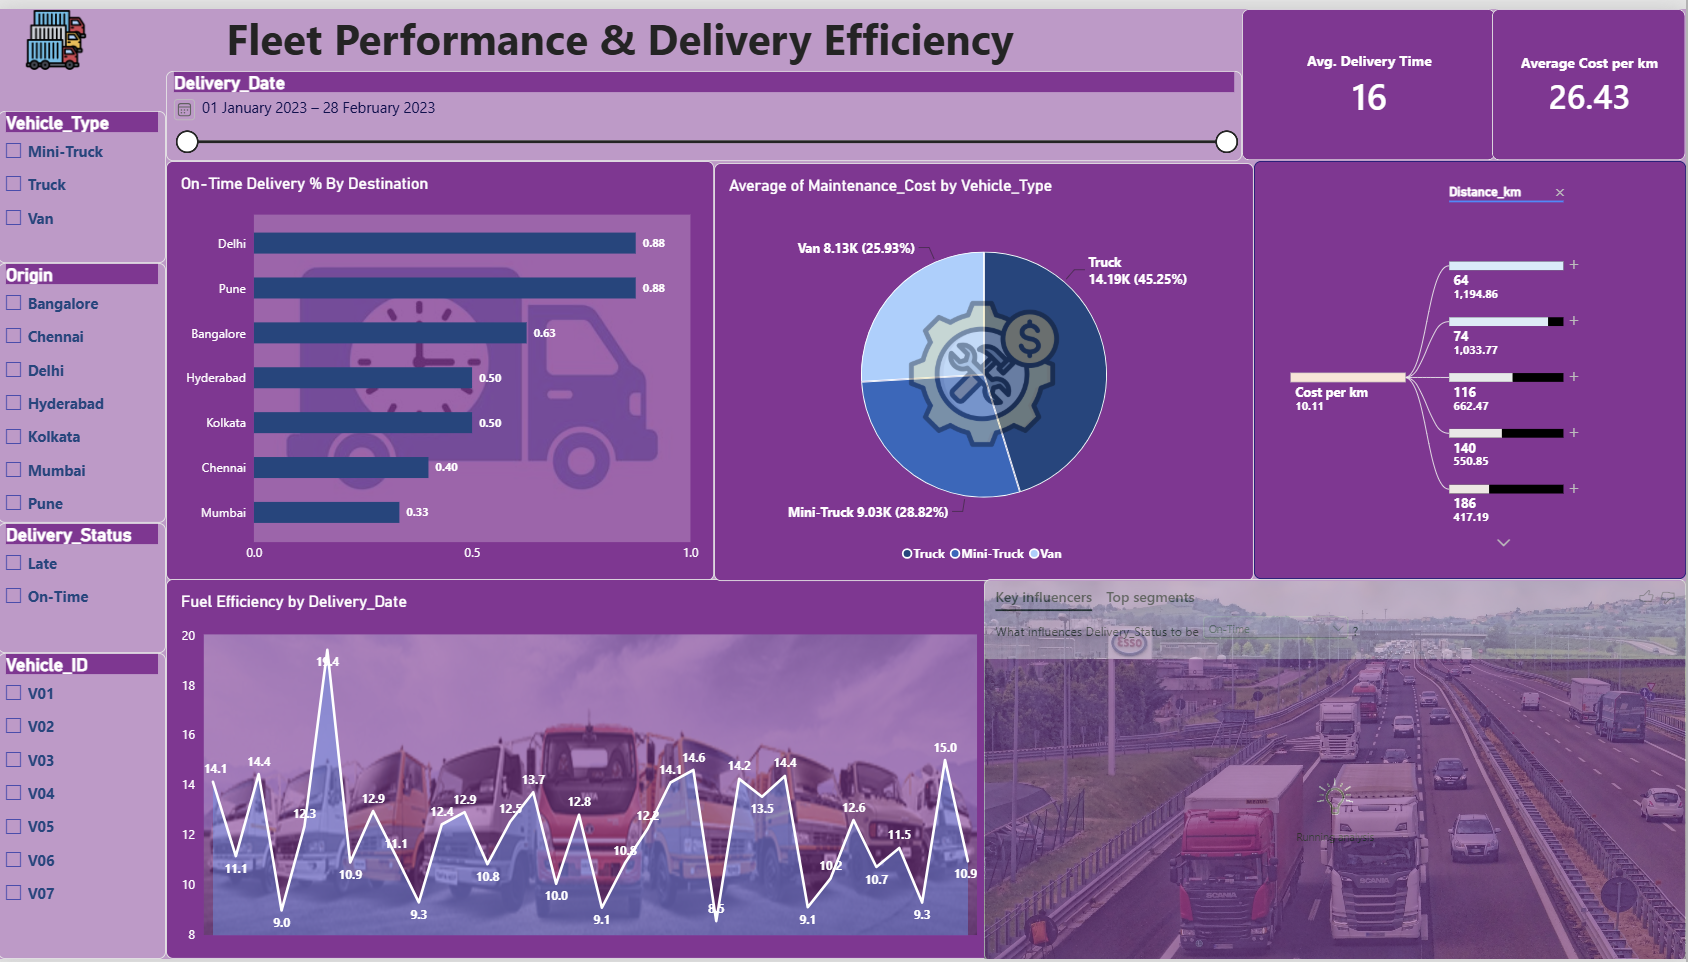

The dashboard page shown, as its layout file describes it:
{"tool":"powerbi","page":{"name":"Fleet Performance ","canvas":[1920,1080],"ordinal":0},"visuals":[{"type":"clusteredBarChart","title":"On-Time Delivery % By Destination","fields":{"Category":["Fact Trip_Data.Destination"],"Y":["Dim Vehicle_Master.On-Time Delivery %"]},"box":[191.1,172.9,623.3,477.7],"z":0},{"type":"lineChart","fields":{"Category":["Fact Trip_Data.Delivery_Date"],"Y":["Dim Vehicle_Master.Fuel Efficiency"]},"box":[191.1,648.3,939.5,432.2],"z":1000},{"type":"cardVisual","fields":{"Data":["Dim Vehicle_Master.Avg. Delivery Time"]},"box":[1415,0,288.9,172.9],"z":2000},{"type":"cardVisual","fields":{"Data":["Dim Vehicle_Master.Average Cost per km"]},"box":[1699.3,0,220.7,172.9],"z":3000},{"type":"pieChart","fields":{"Category":["Dim Vehicle_Master.Vehicle_Type"],"Y":["Avg(Dim Vehicle_Master.Maintenance_Cost)"]},"box":[814.4,175.2,614.2,475.5],"z":4000},{"type":"keyDriversVisual","fields":{"ExplainBy":["Sum(Fact Trip_Data.Distance_km)","Dim Vehicle_Master.Vehicle_Type","Fact Trip_Data.Driver_ID"],"Target":["Fact Trip_Data.Delivery_Status"]},"box":[1121.5,648.3,798.5,434.5],"z":5000},{"type":"decompositionTreeVisual","fields":{"Analyze":["Dim Vehicle_Master.Cost per km"],"ExplainBy":["Fact Trip_Data.Distance_km","Dim Vehicle_Master.Maintenance_Cost","Dim Vehicle_Master.Vehicle_Type"]},"box":[1428.6,172.9,491.4,475.5],"z":6000},{"type":"textbox","box":[0,0,1415,70.5],"z":7000},{"type":"slicer","fields":{"Values":["Dim Vehicle_Master.Vehicle_Type"]},"box":[0,116,191.1,172.9],"z":8000},{"type":"slicer","fields":{"Values":["Fact Trip_Data.Origin"]},"box":[0,288.9,191.1,295.7],"z":9000},{"type":"slicer","fields":{"Values":["Fact Trip_Data.Delivery_Status"]},"box":[0,584.6,191.1,147.9],"z":11000},{"type":"slicer","fields":{"Values":["Fact Trip_Data.Delivery_Date"]},"box":[191.1,70.5,1223.9,102.4],"z":12000},{"type":"slicer","fields":{"Values":["Dim Vehicle_Master.Vehicle_ID"]},"box":[0,732.5,191.1,348.1],"z":13000},{"type":"image","box":[1032.8,327.6,177.4,175.2],"z":14000},{"type":"image","box":[20.5,0,91,70.5],"z":15000},{"type":"image","box":[1121.5,650.6,798.5,430],"z":16000}]}

Visuals, with their boxes in screenshot pixels (x1, y1, x2, y2), scaled from the page's 1920x1080 canvas onto the 1692x962 screenshot:
"On-Time Delivery % By Destination" clusteredBarChart: region(168, 154, 718, 580)
lineChart - Fact Trip_Data.Delivery_Date x Dim Vehicle_Master.Fuel Efficiency: region(168, 577, 996, 961)
cardVisual - Dim Vehicle_Master.Avg. Delivery Time: region(1247, 0, 1502, 154)
cardVisual - Dim Vehicle_Master.Average Cost per km: region(1498, 0, 1691, 154)
pieChart - Dim Vehicle_Master.Vehicle_Type x Avg(Dim Vehicle_Master.Maintenance_Cost): region(718, 156, 1259, 580)
keyDriversVisual - Sum(Fact Trip_Data.Distance_km) x Dim Vehicle_Master.Vehicle_Type: region(988, 577, 1691, 961)
decompositionTreeVisual - Dim Vehicle_Master.Cost per km x Fact Trip_Data.Distance_km: region(1259, 154, 1691, 578)
textbox: region(0, 0, 1247, 63)
slicer - Dim Vehicle_Master.Vehicle_Type: region(0, 103, 168, 257)
slicer - Fact Trip_Data.Origin: region(0, 257, 168, 521)
slicer - Fact Trip_Data.Delivery_Status: region(0, 521, 168, 652)
slicer - Fact Trip_Data.Delivery_Date: region(168, 63, 1247, 154)
slicer - Dim Vehicle_Master.Vehicle_ID: region(0, 652, 168, 961)
image: region(910, 292, 1066, 448)
image: region(18, 0, 98, 63)
image: region(988, 580, 1691, 961)
